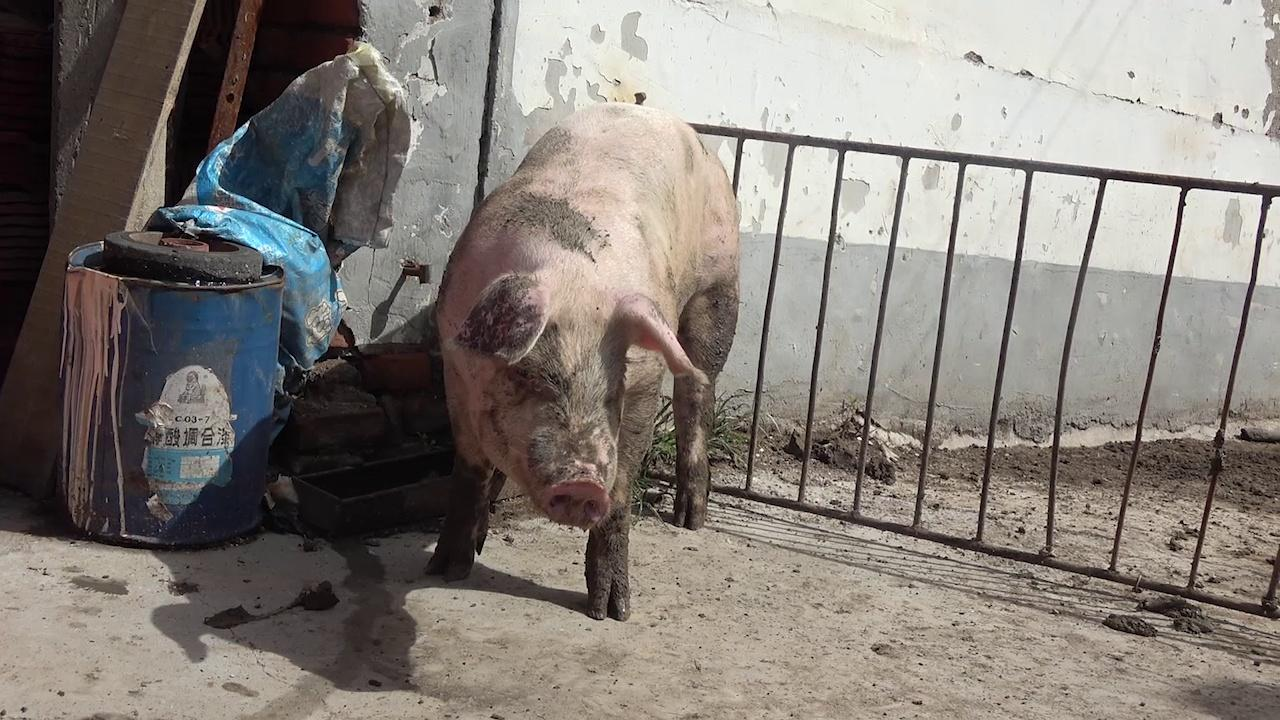Face: (447, 272, 718, 534)
